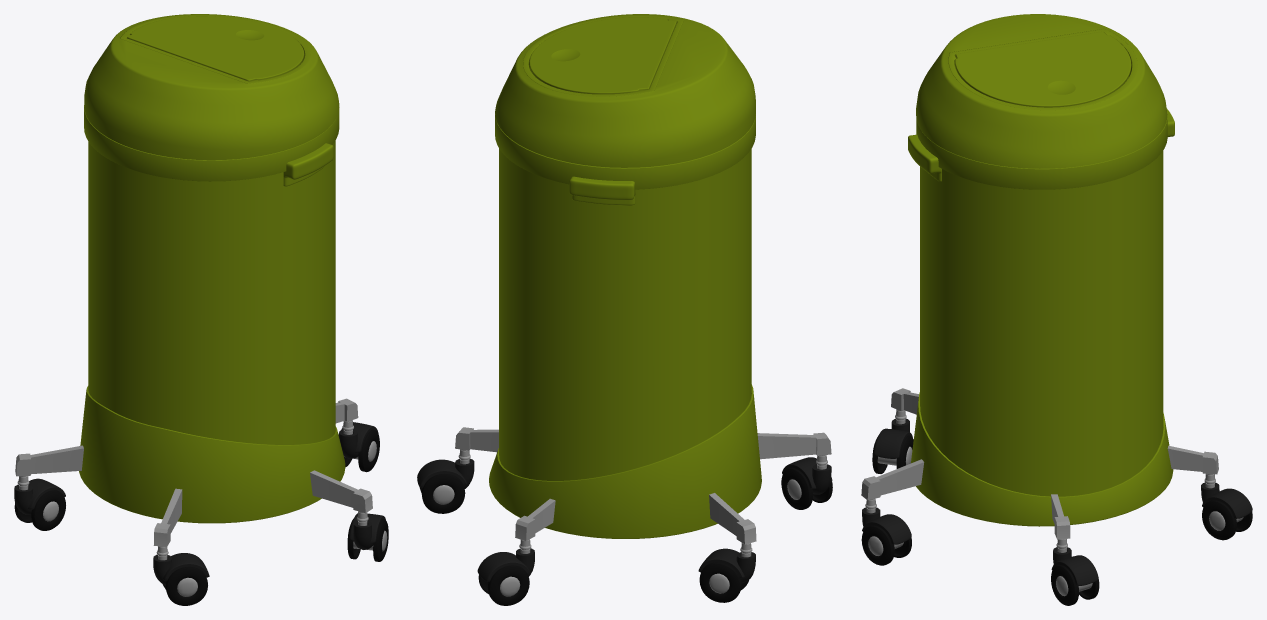
Rendered from Touch bin new.obj.
3 views of the same model, side by side, from view 1: azimuth 30°, elevation 25°; view 2: azimuth 150°, elevation 25°; view 3: azimuth 270°, elevation 25° (orthographic). The views are drawn at different scales.
Visible parts, largest first — view 1: Touch_bin_obj; view 2: Touch_bin_obj; view 3: Touch_bin_obj.
Part boxes in pixels (x1,y1,x2,y2): Touch_bin_obj: [14, 14, 388, 605]; Touch_bin_obj: [417, 14, 832, 605]; Touch_bin_obj: [861, 14, 1252, 605].
Bounding box in the file's own units: 2.88 × 3.78 × 2.86.
